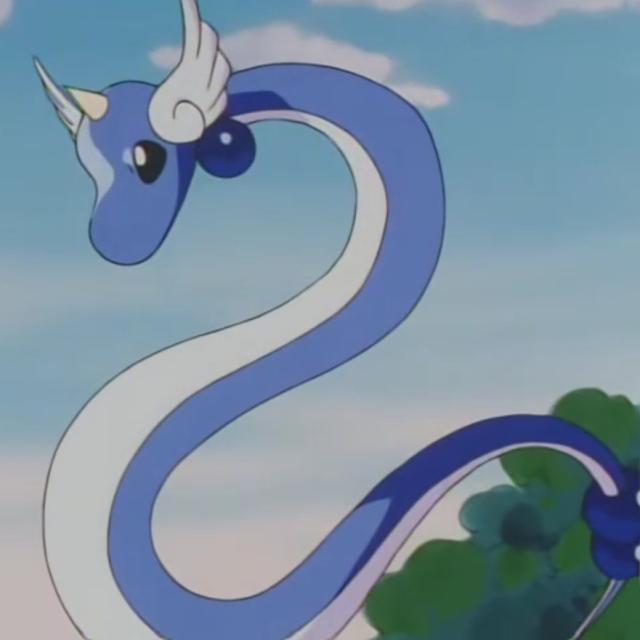Dragonair: (34, 31, 456, 632)
